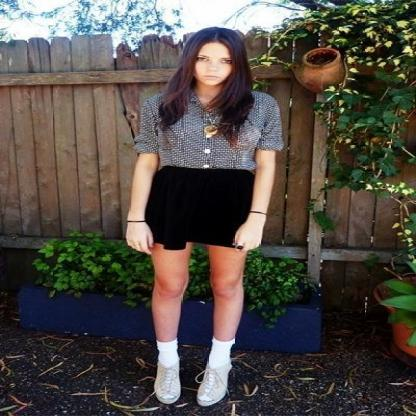shirt: (124, 92, 287, 173)
shoe: (154, 360, 228, 405)
skirt: (137, 164, 261, 250)
